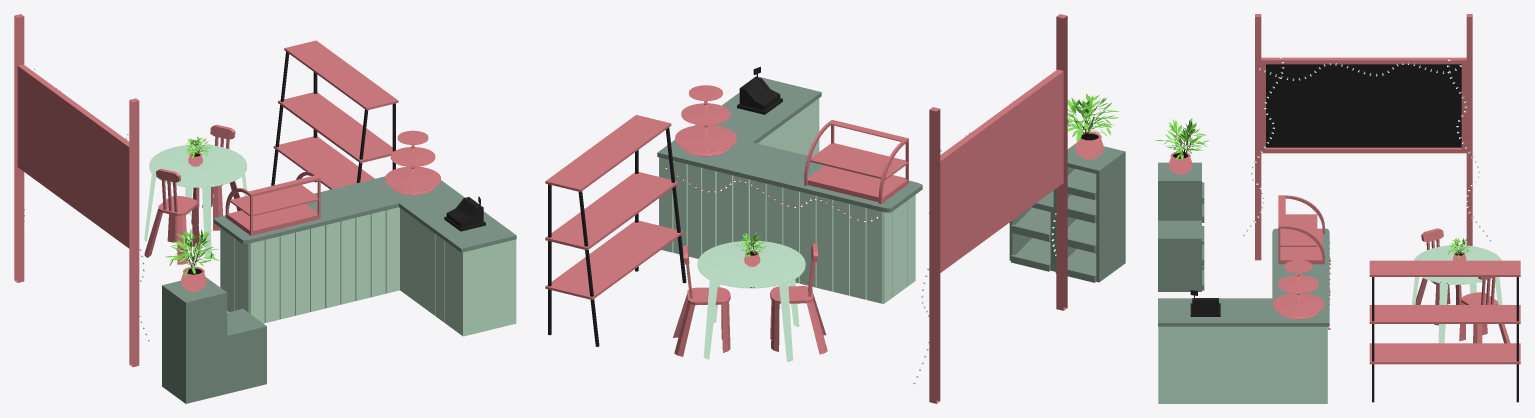
File: bakery_element.glb
The picture shows the model from 3 angles, left to right: view 1: azimuth 30°, elevation 25°; view 2: azimuth 150°, elevation 25°; view 3: azimuth 270°, elevation 25°; orthographic projection. The views are drawn at different scales.
Parts seen in each view (by area): view 1: Counter_6, Board_5, Cabnets_8, Cube_37, counter top_7, Object_12, table_17, display case_10, Cylinder.001_41, Chair_16, Chair.001_18, Cash register_12 (+2 smaller); view 2: Counter_6, Board_5, Cube_37, Cabnets_8, counter top_7, Object_12, table_17, display case_10, Cylinder.001_41, Chair.001_18, Chair_16, Cash register_12 (+2 smaller); view 3: Board_5, Counter_6, Cube_37, Cabnets_8, counter top_7, Object_12, display case_10, Cylinder.001_41, table_17, Chair.001_18, leaves_13, Chair_16 (+2 smaller).
Boxes of the visible parts, x1=… form: Counter_6: x1=220, y1=207, x2=516, y2=336; Board_5: x1=17, y1=64, x2=132, y2=248; Cabnets_8: x1=162, y1=277, x2=266, y2=403; Cube_37: x1=271, y1=40, x2=398, y2=189; counter top_7: x1=214, y1=167, x2=516, y2=252; Object_12: x1=14, y1=14, x2=139, y2=367; table_17: x1=144, y1=144, x2=247, y2=258; display case_10: x1=225, y1=171, x2=320, y2=235; Cylinder.001_41: x1=385, y1=130, x2=440, y2=195; Chair_16: x1=144, y1=168, x2=199, y2=264; Chair.001_18: x1=191, y1=124, x2=241, y2=230; Cash register_12: x1=444, y1=196, x2=485, y2=231; Counter_6: x1=659, y1=98, x2=915, y2=303; Board_5: x1=936, y1=69, x2=1063, y2=272; Cube_37: x1=545, y1=115, x2=686, y2=346; Cabnets_8: x1=1009, y1=143, x2=1125, y2=282; counter top_7: x1=657, y1=77, x2=922, y2=212; Object_12: x1=929, y1=14, x2=1067, y2=403; table_17: x1=697, y1=240, x2=805, y2=361; display case_10: x1=804, y1=119, x2=908, y2=203; Cylinder.001_41: x1=675, y1=85, x2=736, y2=156; Chair.001_18: x1=673, y1=245, x2=730, y2=356; Chair_16: x1=770, y1=243, x2=827, y2=354; Cash register_12: x1=737, y1=66, x2=782, y2=114; Board_5: x1=1261, y1=57, x2=1466, y2=153; Counter_6: x1=1158, y1=326, x2=1327, y2=403; Cube_37: x1=1369, y1=260, x2=1520, y2=402; Cabnets_8: x1=1158, y1=162, x2=1204, y2=291; counter top_7: x1=1158, y1=228, x2=1329, y2=326; Object_12: x1=1255, y1=14, x2=1472, y2=260; display case_10: x1=1278, y1=195, x2=1324, y2=264; Cylinder.001_41: x1=1272, y1=260, x2=1324, y2=319; table_17: x1=1412, y1=245, x2=1502, y2=343; Chair.001_18: x1=1459, y1=277, x2=1510, y2=343; leaves_13: x1=1154, y1=118, x2=1209, y2=159; Chair_16: x1=1415, y1=228, x2=1461, y2=325.
Bounding box in the file's own units: 8.3 × 6.26 × 8.55.
